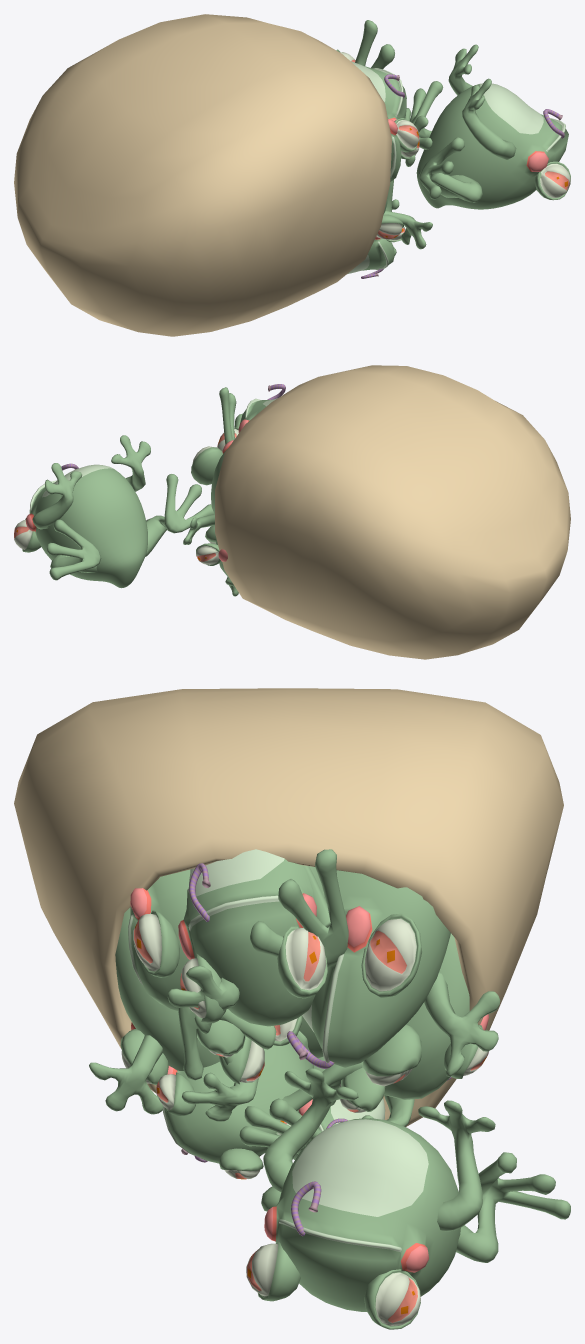
The model's file is FrogBag_02.fbx.
3 views of the same model, one above another, from view 1: azimuth 30°, elevation 25°; view 2: azimuth 150°, elevation 25°; view 3: azimuth 270°, elevation 25° (orthographic). The views are drawn at different scales.
Parts seen in each view (by area): view 1: Cube.008; view 2: Cube.008; view 3: Cube.008.
Boxes of the visible parts, x1,y1,x2,y2 form: Cube.008: (14,14,570,336); Cube.008: (14,365,570,659); Cube.008: (14,688,570,1329).
Bounding box in the file's own units: 238 × 108 × 133.
